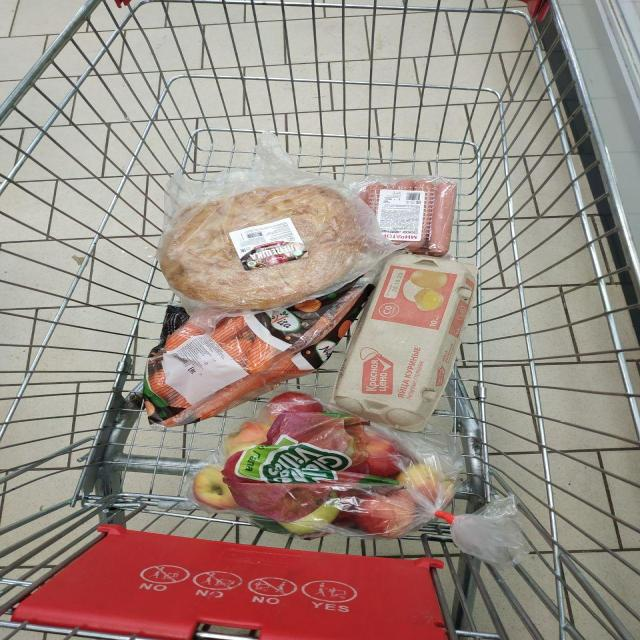Apple: (355, 490, 417, 538), (193, 465, 238, 509), (397, 464, 442, 503), (280, 505, 340, 534), (223, 421, 269, 457), (365, 438, 400, 478), (268, 391, 323, 414)
Bread: (160, 185, 367, 309)
Carrot: (193, 374, 263, 420), (163, 321, 203, 352), (247, 338, 280, 372), (212, 316, 247, 346), (222, 336, 253, 366), (148, 368, 175, 398)
Eggs: (333, 254, 477, 431)
Sausages: (352, 176, 457, 256)
